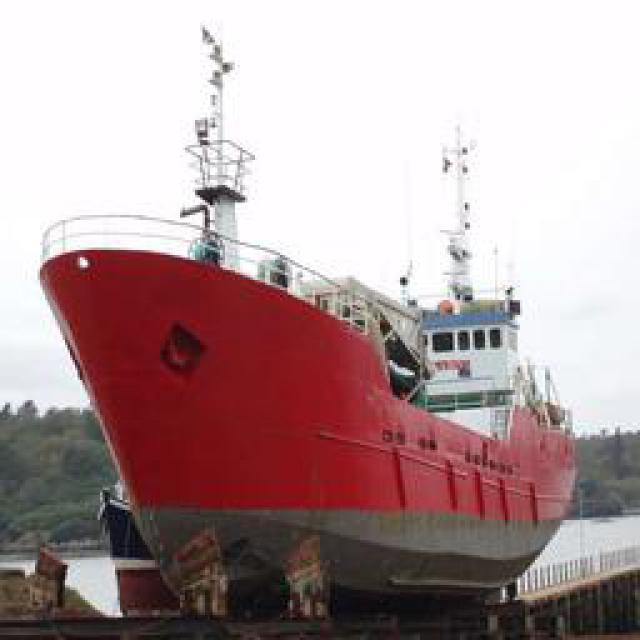Ship: (40, 145, 585, 610)
